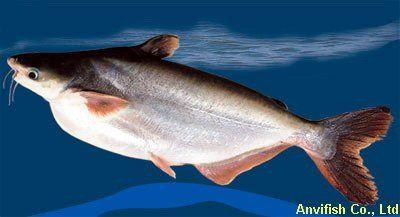Pangasius: (3, 34, 396, 204)
